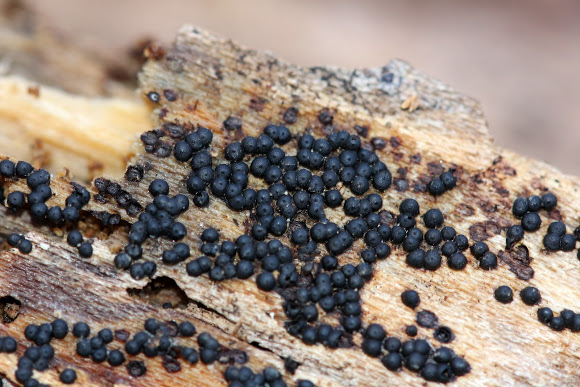pudricion radicular: (9, 59, 571, 384)
